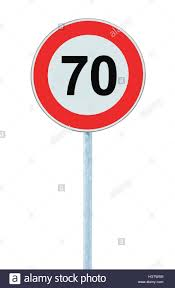Speed_limit_70km: (31, 19, 145, 133)
